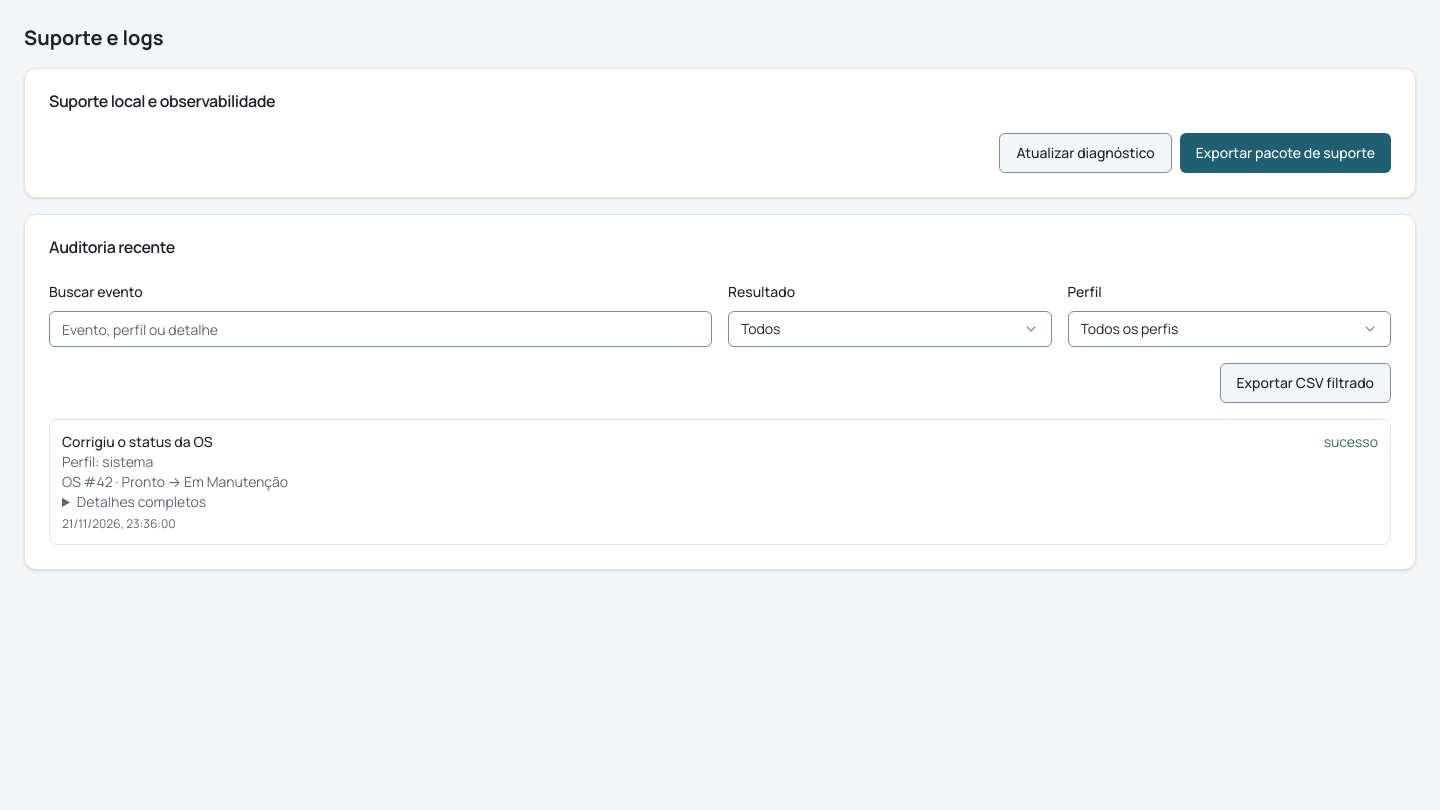
it: auditoria recente › mantém os detalhes completos de EQUIPMENT_STATUS_CORRECTED disponíveis junto ao resumo
This screenshot has width=1440, height=810.
Expected: the text "OS #42 · Pronto → Em Manutenção" is shown, [62,472,288,491]
Expected: the text "21/11/2026, 23:36:00" is shown, [62,515,176,532]
What coordinates should you click on to do the following:
click the heading "Detalhes completos"
I would click on:
 (141, 502)
Its box is [77,492,206,511].
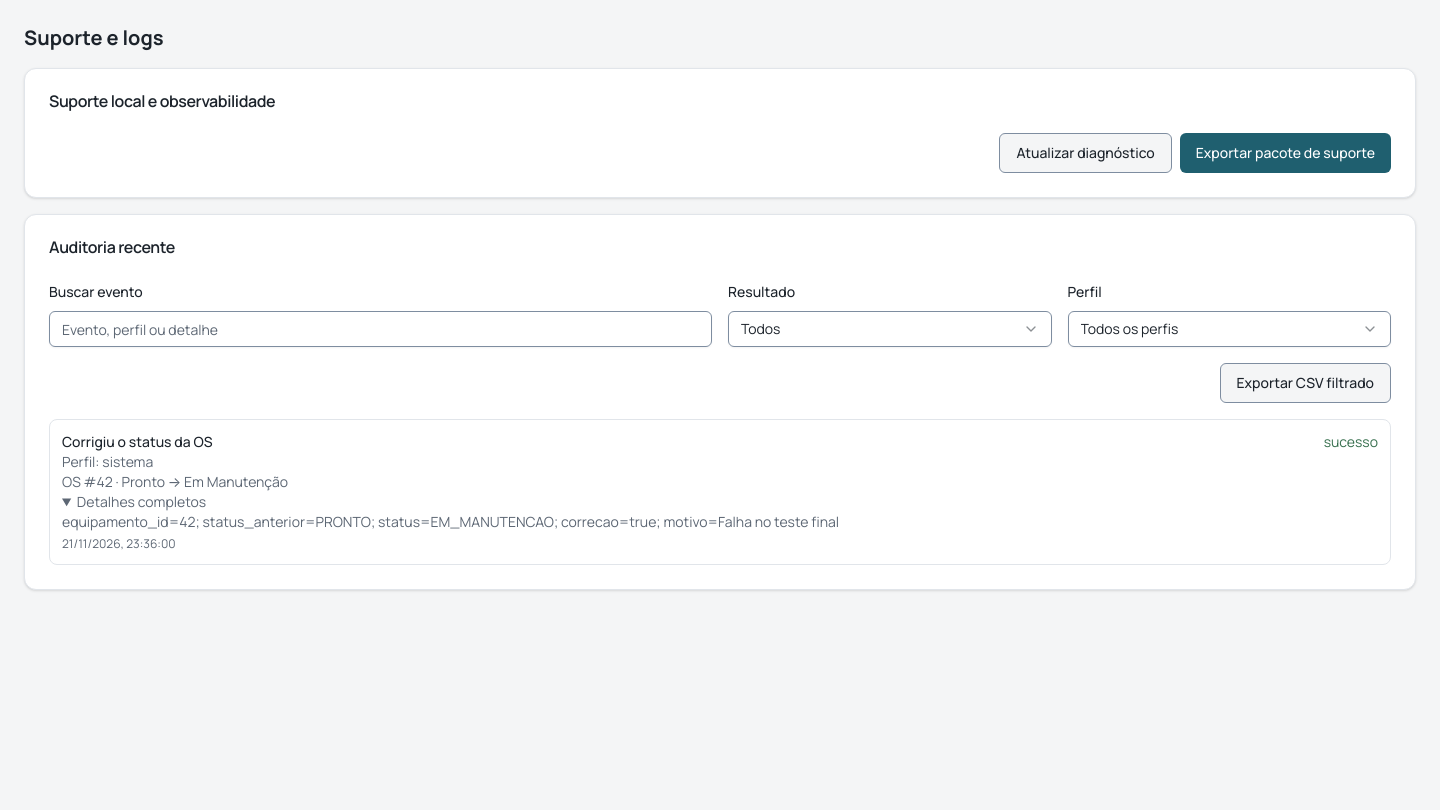
Expected: the text "equipamento_id=42; status_anterior=PRONTO; status=EM_MANUTENCAO; correcao=true; motivo=Falha no teste final" is shown, [62,512,839,531]
